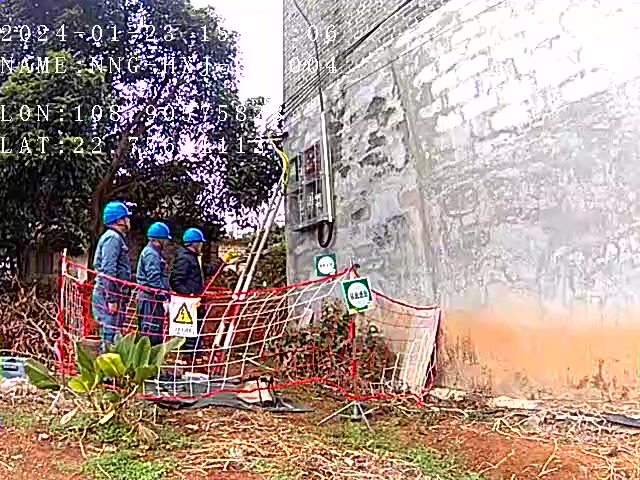halt: (105, 203, 135, 234), (149, 224, 174, 250), (185, 231, 209, 254)
